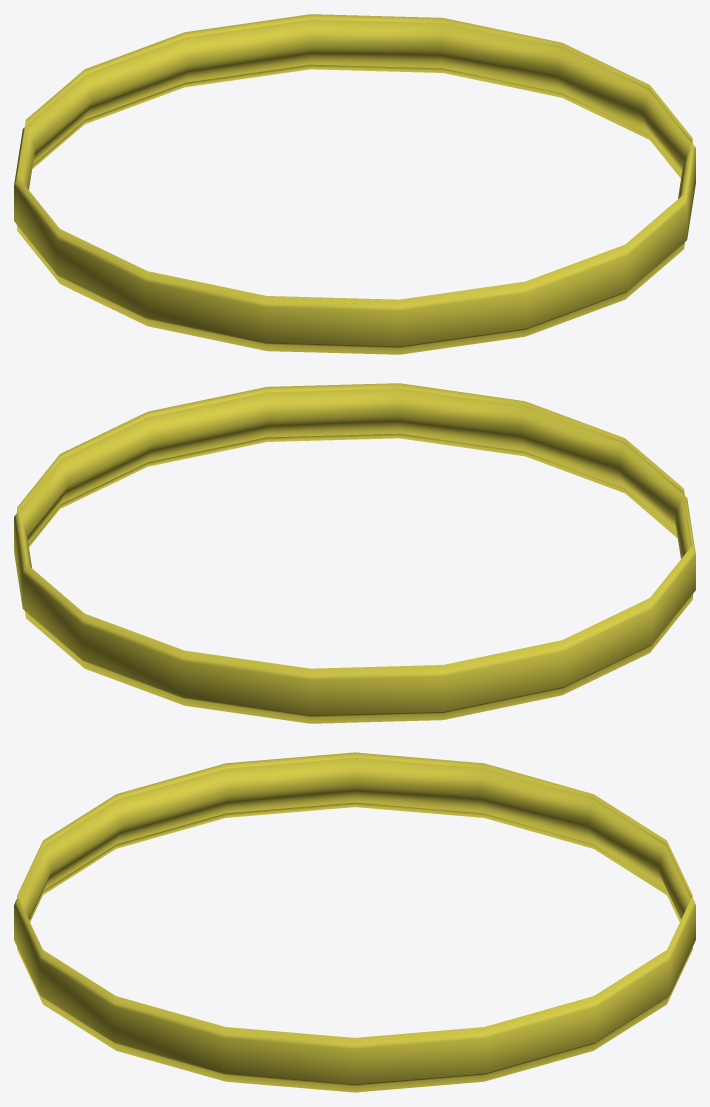
Rendered from ring_1.fbx.
3 views of the same model, one above another, from view 1: azimuth 30°, elevation 25°; view 2: azimuth 150°, elevation 25°; view 3: azimuth 270°, elevation 25° (orthographic).
Parts seen in each view (by area): view 1: Torus.001; view 2: Torus.001; view 3: Torus.001.
Boxes of the visible parts, <box> form: Torus.001: <box>14,14,695,354</box>; Torus.001: <box>14,383,695,723</box>; Torus.001: <box>14,752,695,1092</box>.
Bounding box in the file's own units: 206 × 18.22 × 206.
